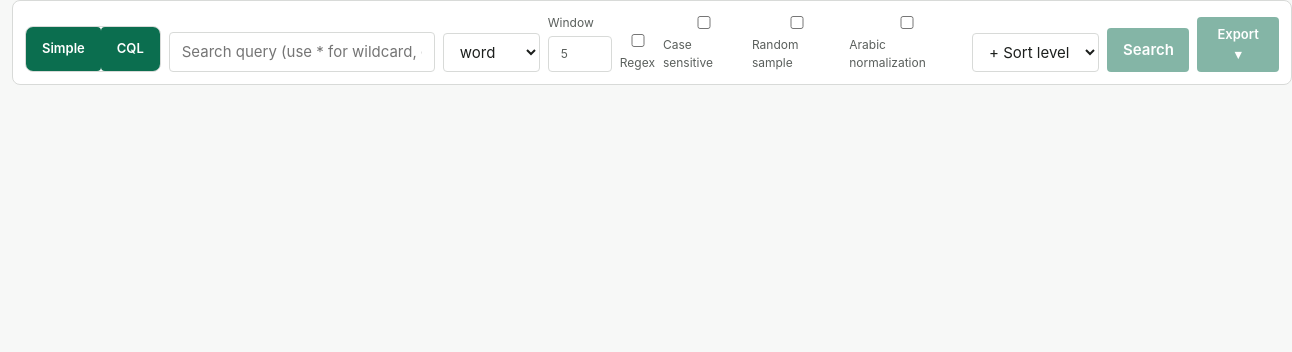
it: CQL mode toggle + shared KWIC table › renders the shared KWIC table for a CQL result
Click the button with class "mode-toggle-btn" showing "CQL" at (130, 49), box [101,27,160,71]
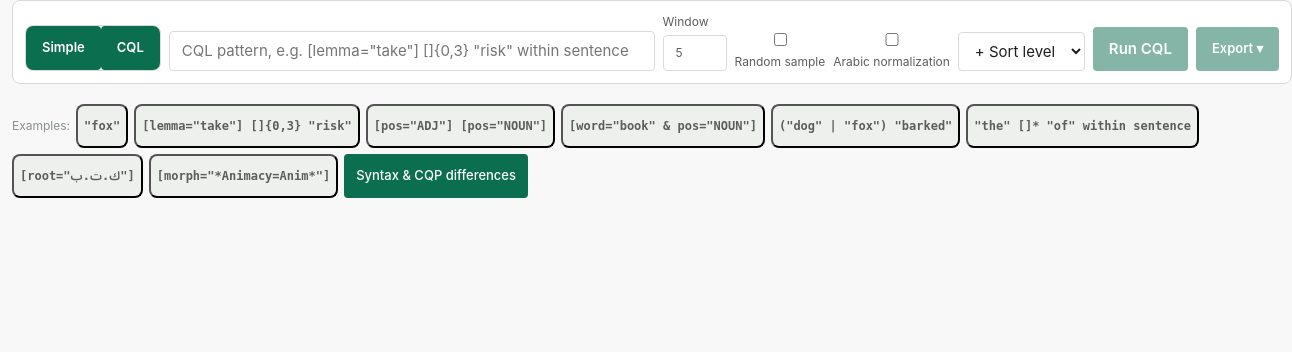
Replace the text in the field with class "search-input" with "[pos=\"ADJ\"] \"fox\"" at (412, 51), box [169,30,655,71]
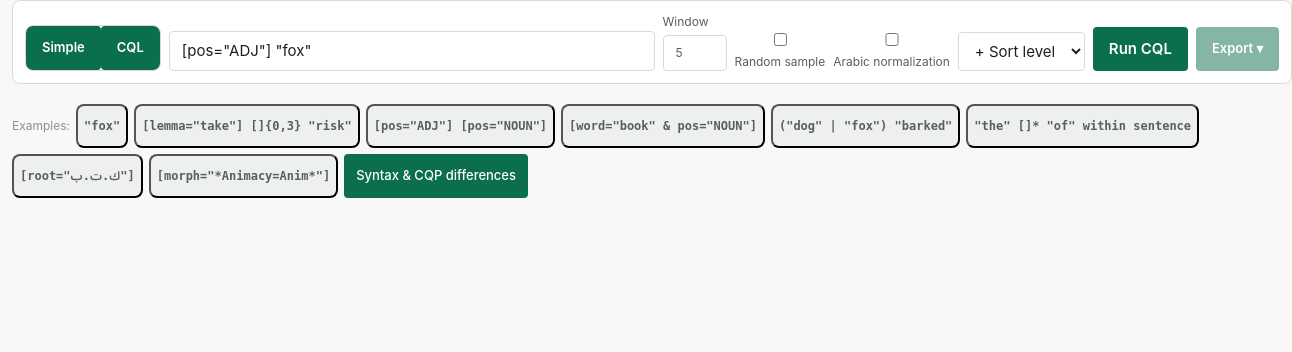
Click the button "Run CQL" at (1140, 49), box [1093,27,1188,71]
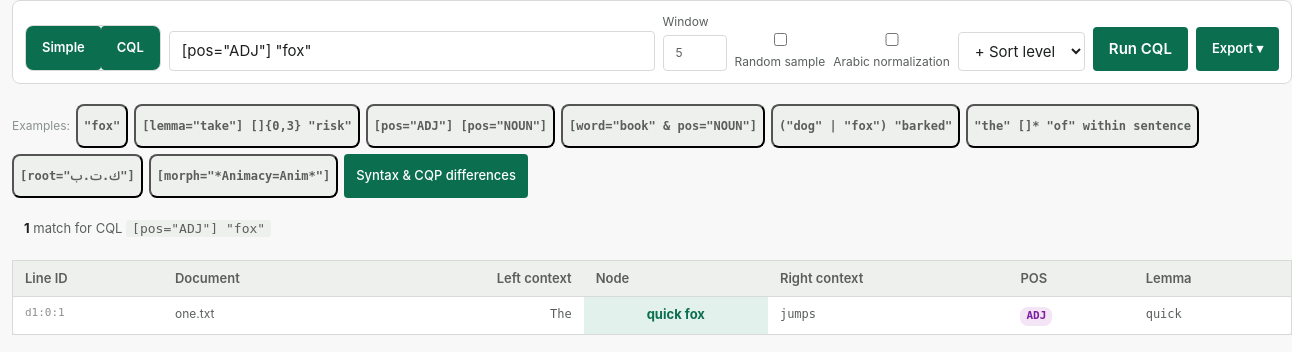
Result: the table with class "kwic-table" is shown at [12,260,1291,335]
Result: the cell with class "node" reads "quick fox" at [647,306,705,322]
